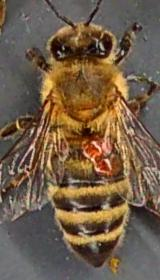varroa_mite: (89, 152, 123, 178), (84, 130, 103, 154)
